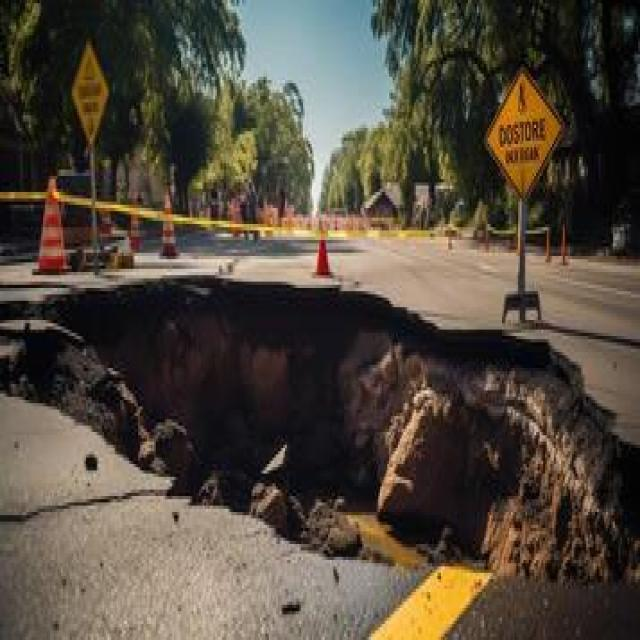road collapse: (3, 155, 640, 640)
